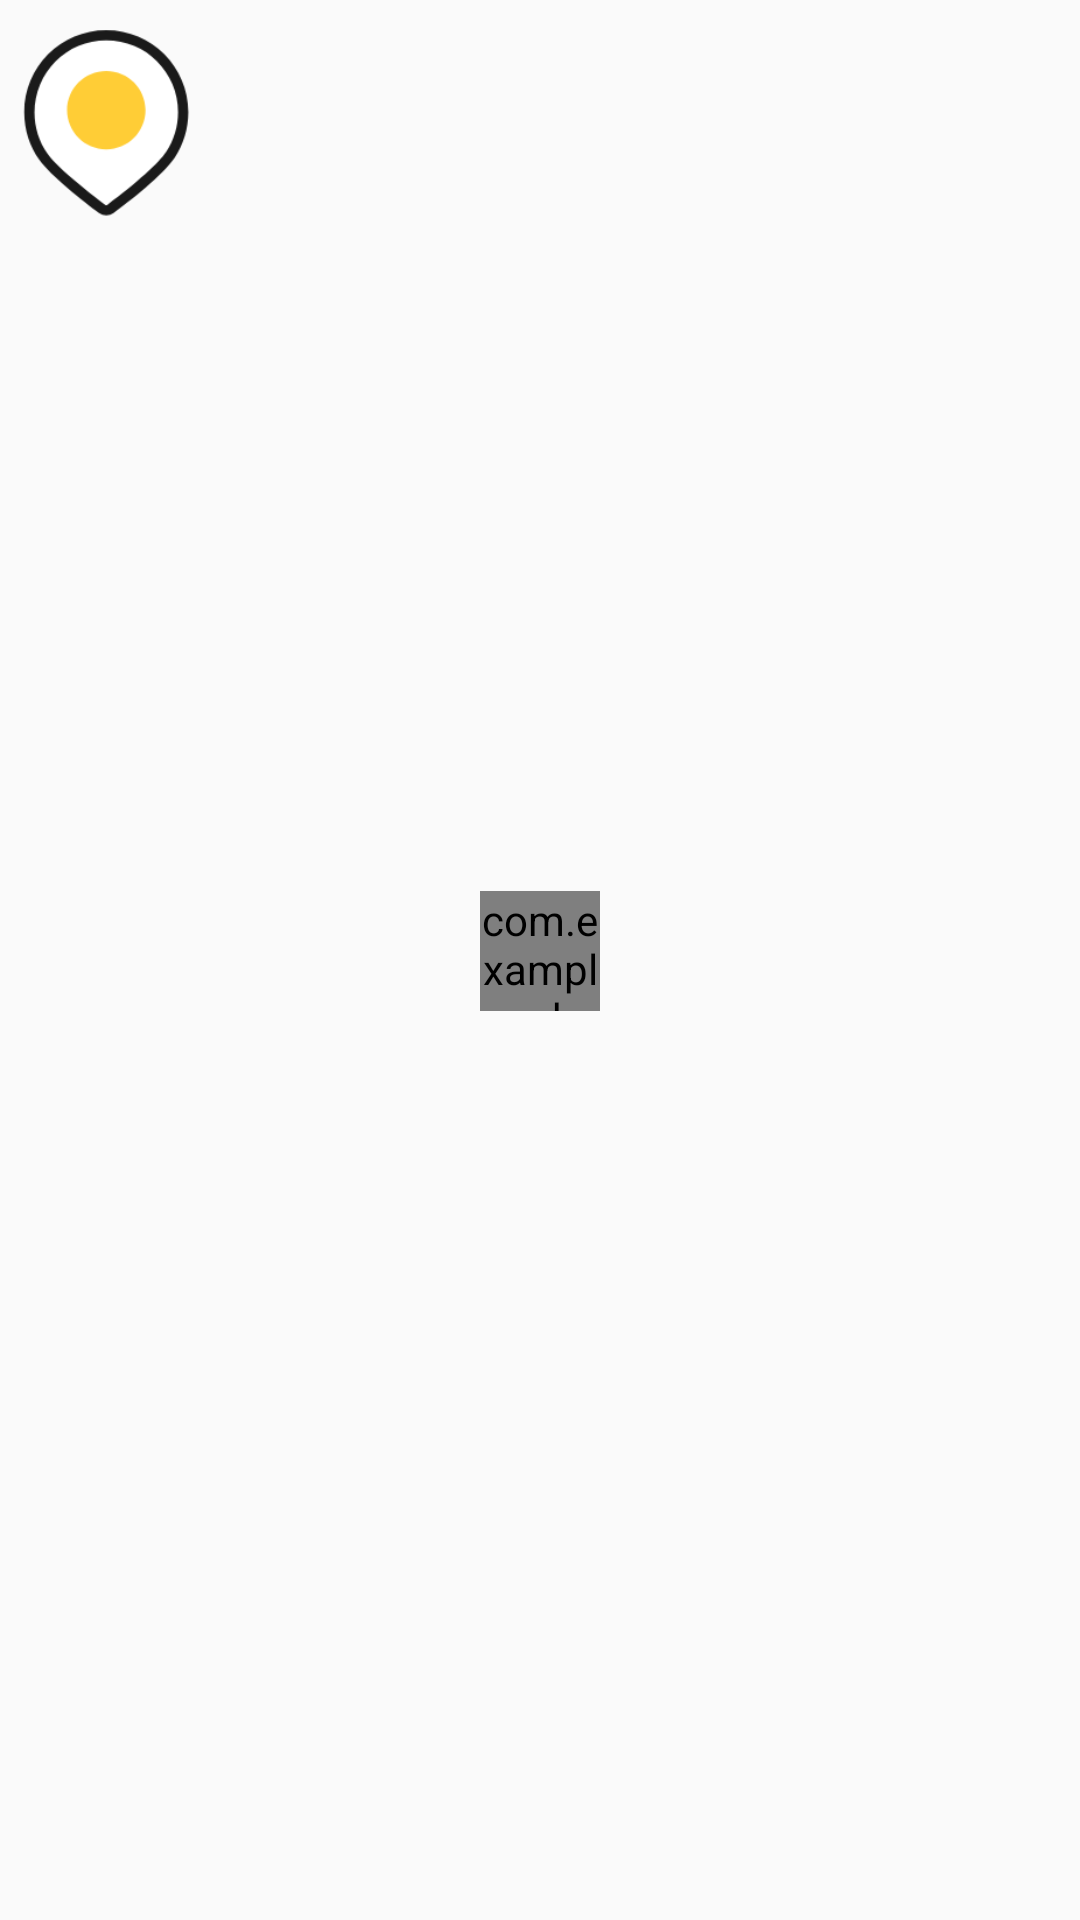

Screen size 1080px x 1920px. Icon name, then its box in pixels as [x1=x1, y1=y1, x2=x2, y2=y2]:
map marker: [x1=23, y1=30, x2=189, y2=216]
